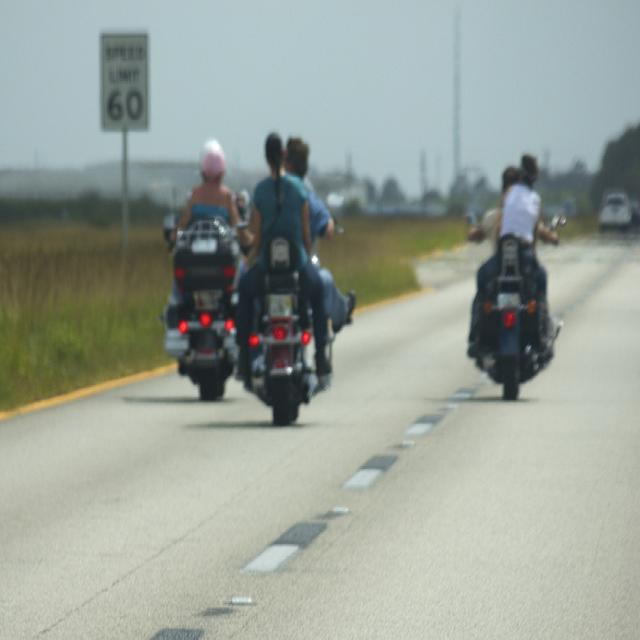motor: (162, 209, 248, 402), (481, 213, 569, 401), (245, 238, 320, 430)
